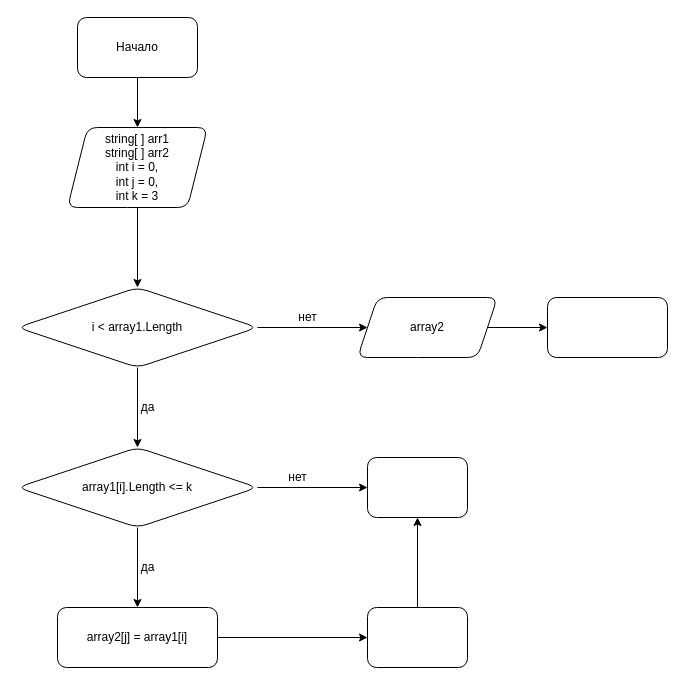
The diagram is 685 pixels wide and 685 high, and some of its shapes have lost their labels. Here are the shapes that lost their labels. From the top down, the centre of each, then its label:
At pixel 607 327: "конец".
At pixel 417 487: "i++".
At pixel 417 637: "j++".
